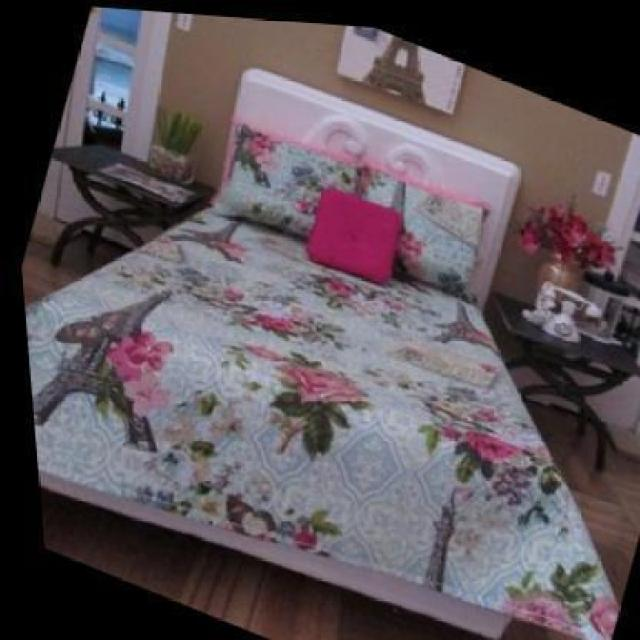tables: (483, 289, 639, 471), (48, 143, 215, 268)
